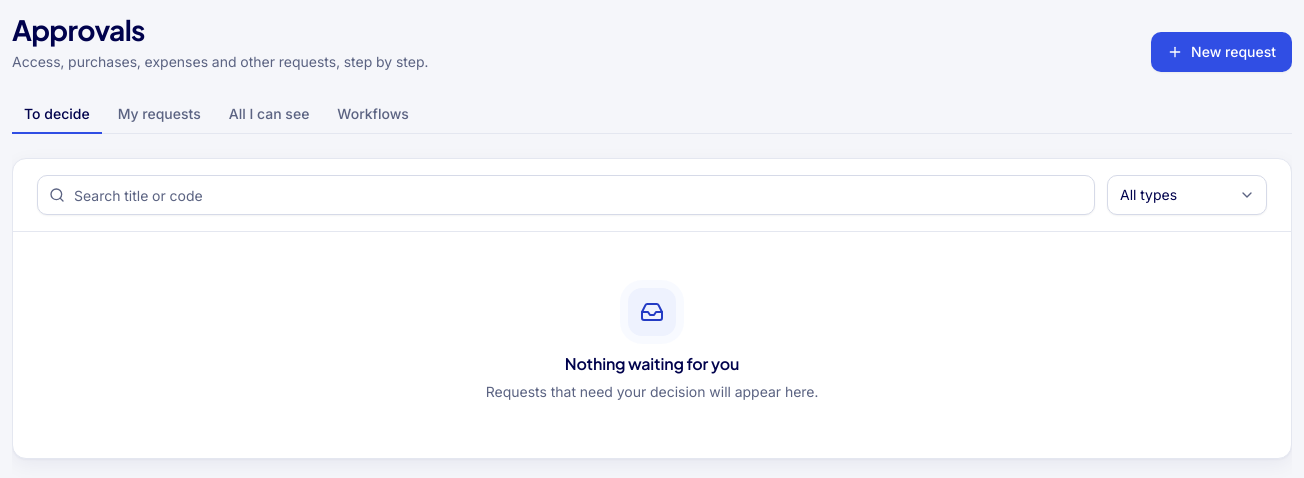
Scenario: ApprovalsPage › lets configurers see the workflows
Click the tab "Workflows".
click(373, 115)  # box [325,96,421,134]
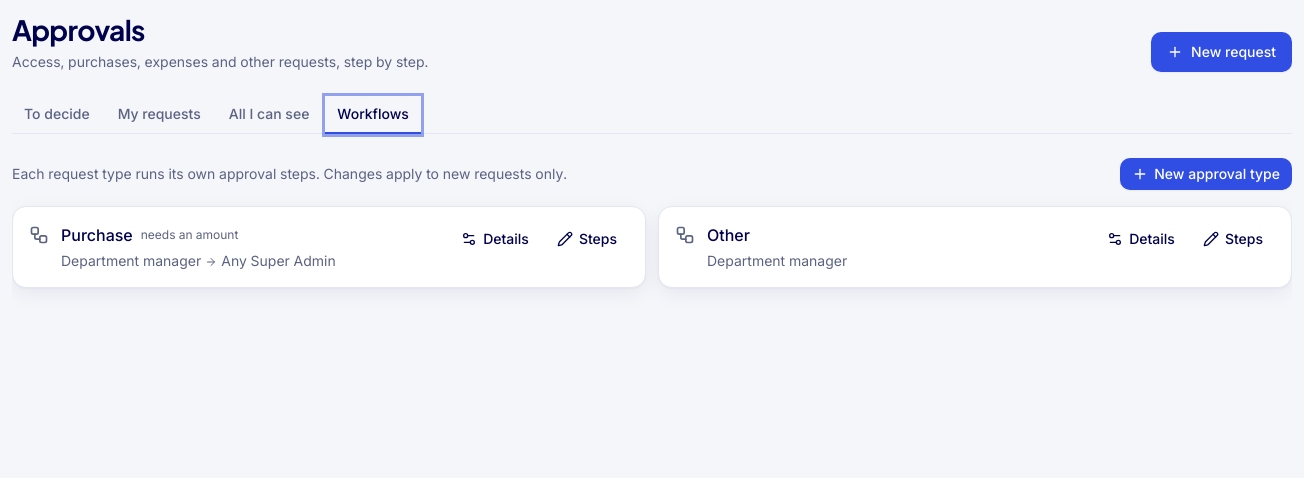
Expected: the button with aria-label "Edit Purchase workflow" is shown, [545,223,629,255]
